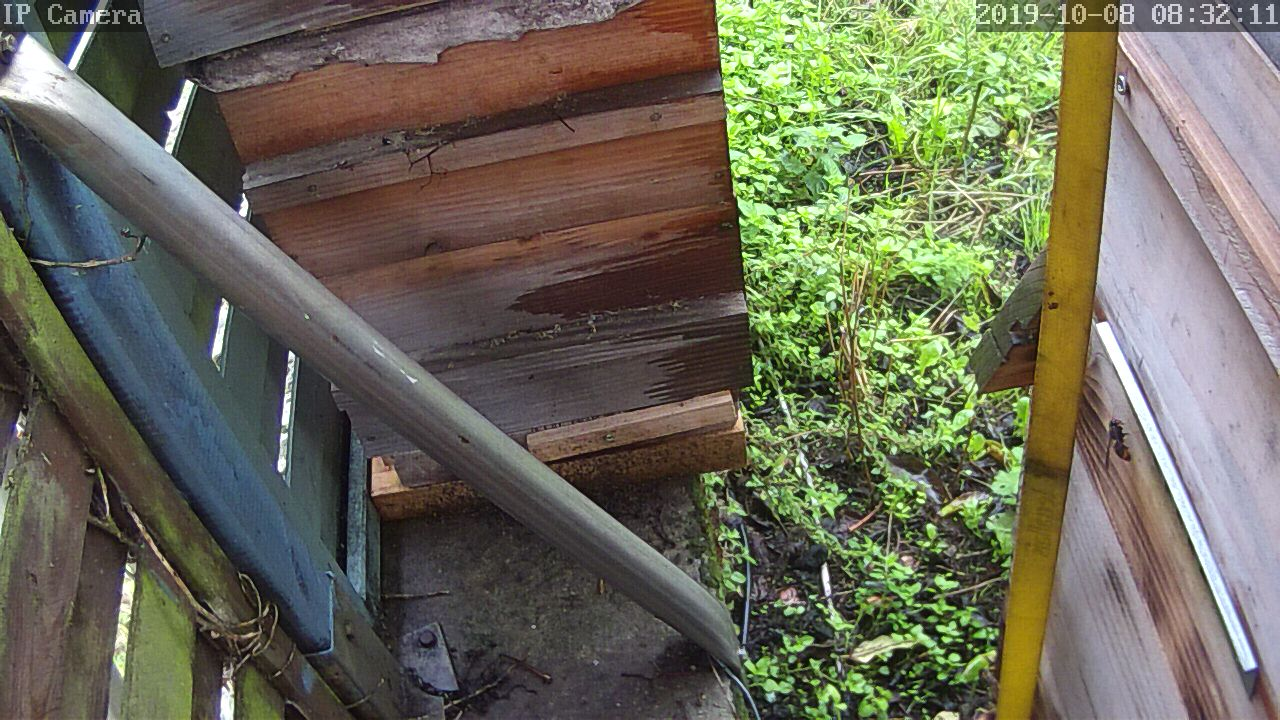hornet: (1096, 418, 1140, 464)
